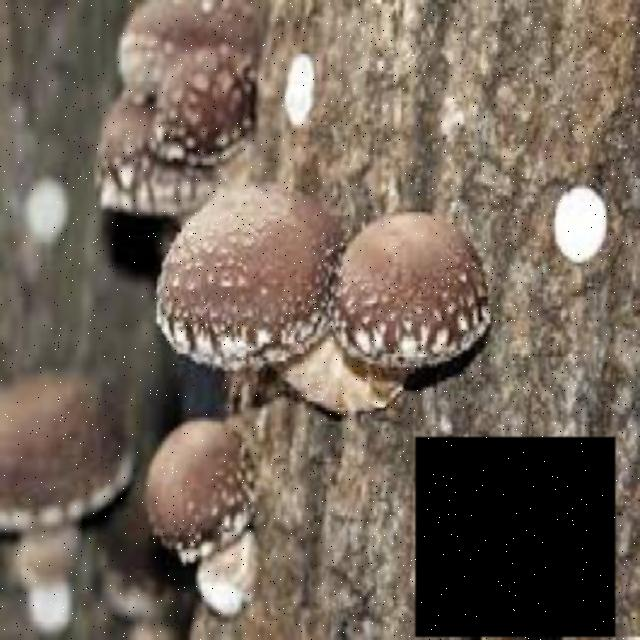Mushroom: (415, 438, 616, 636)
